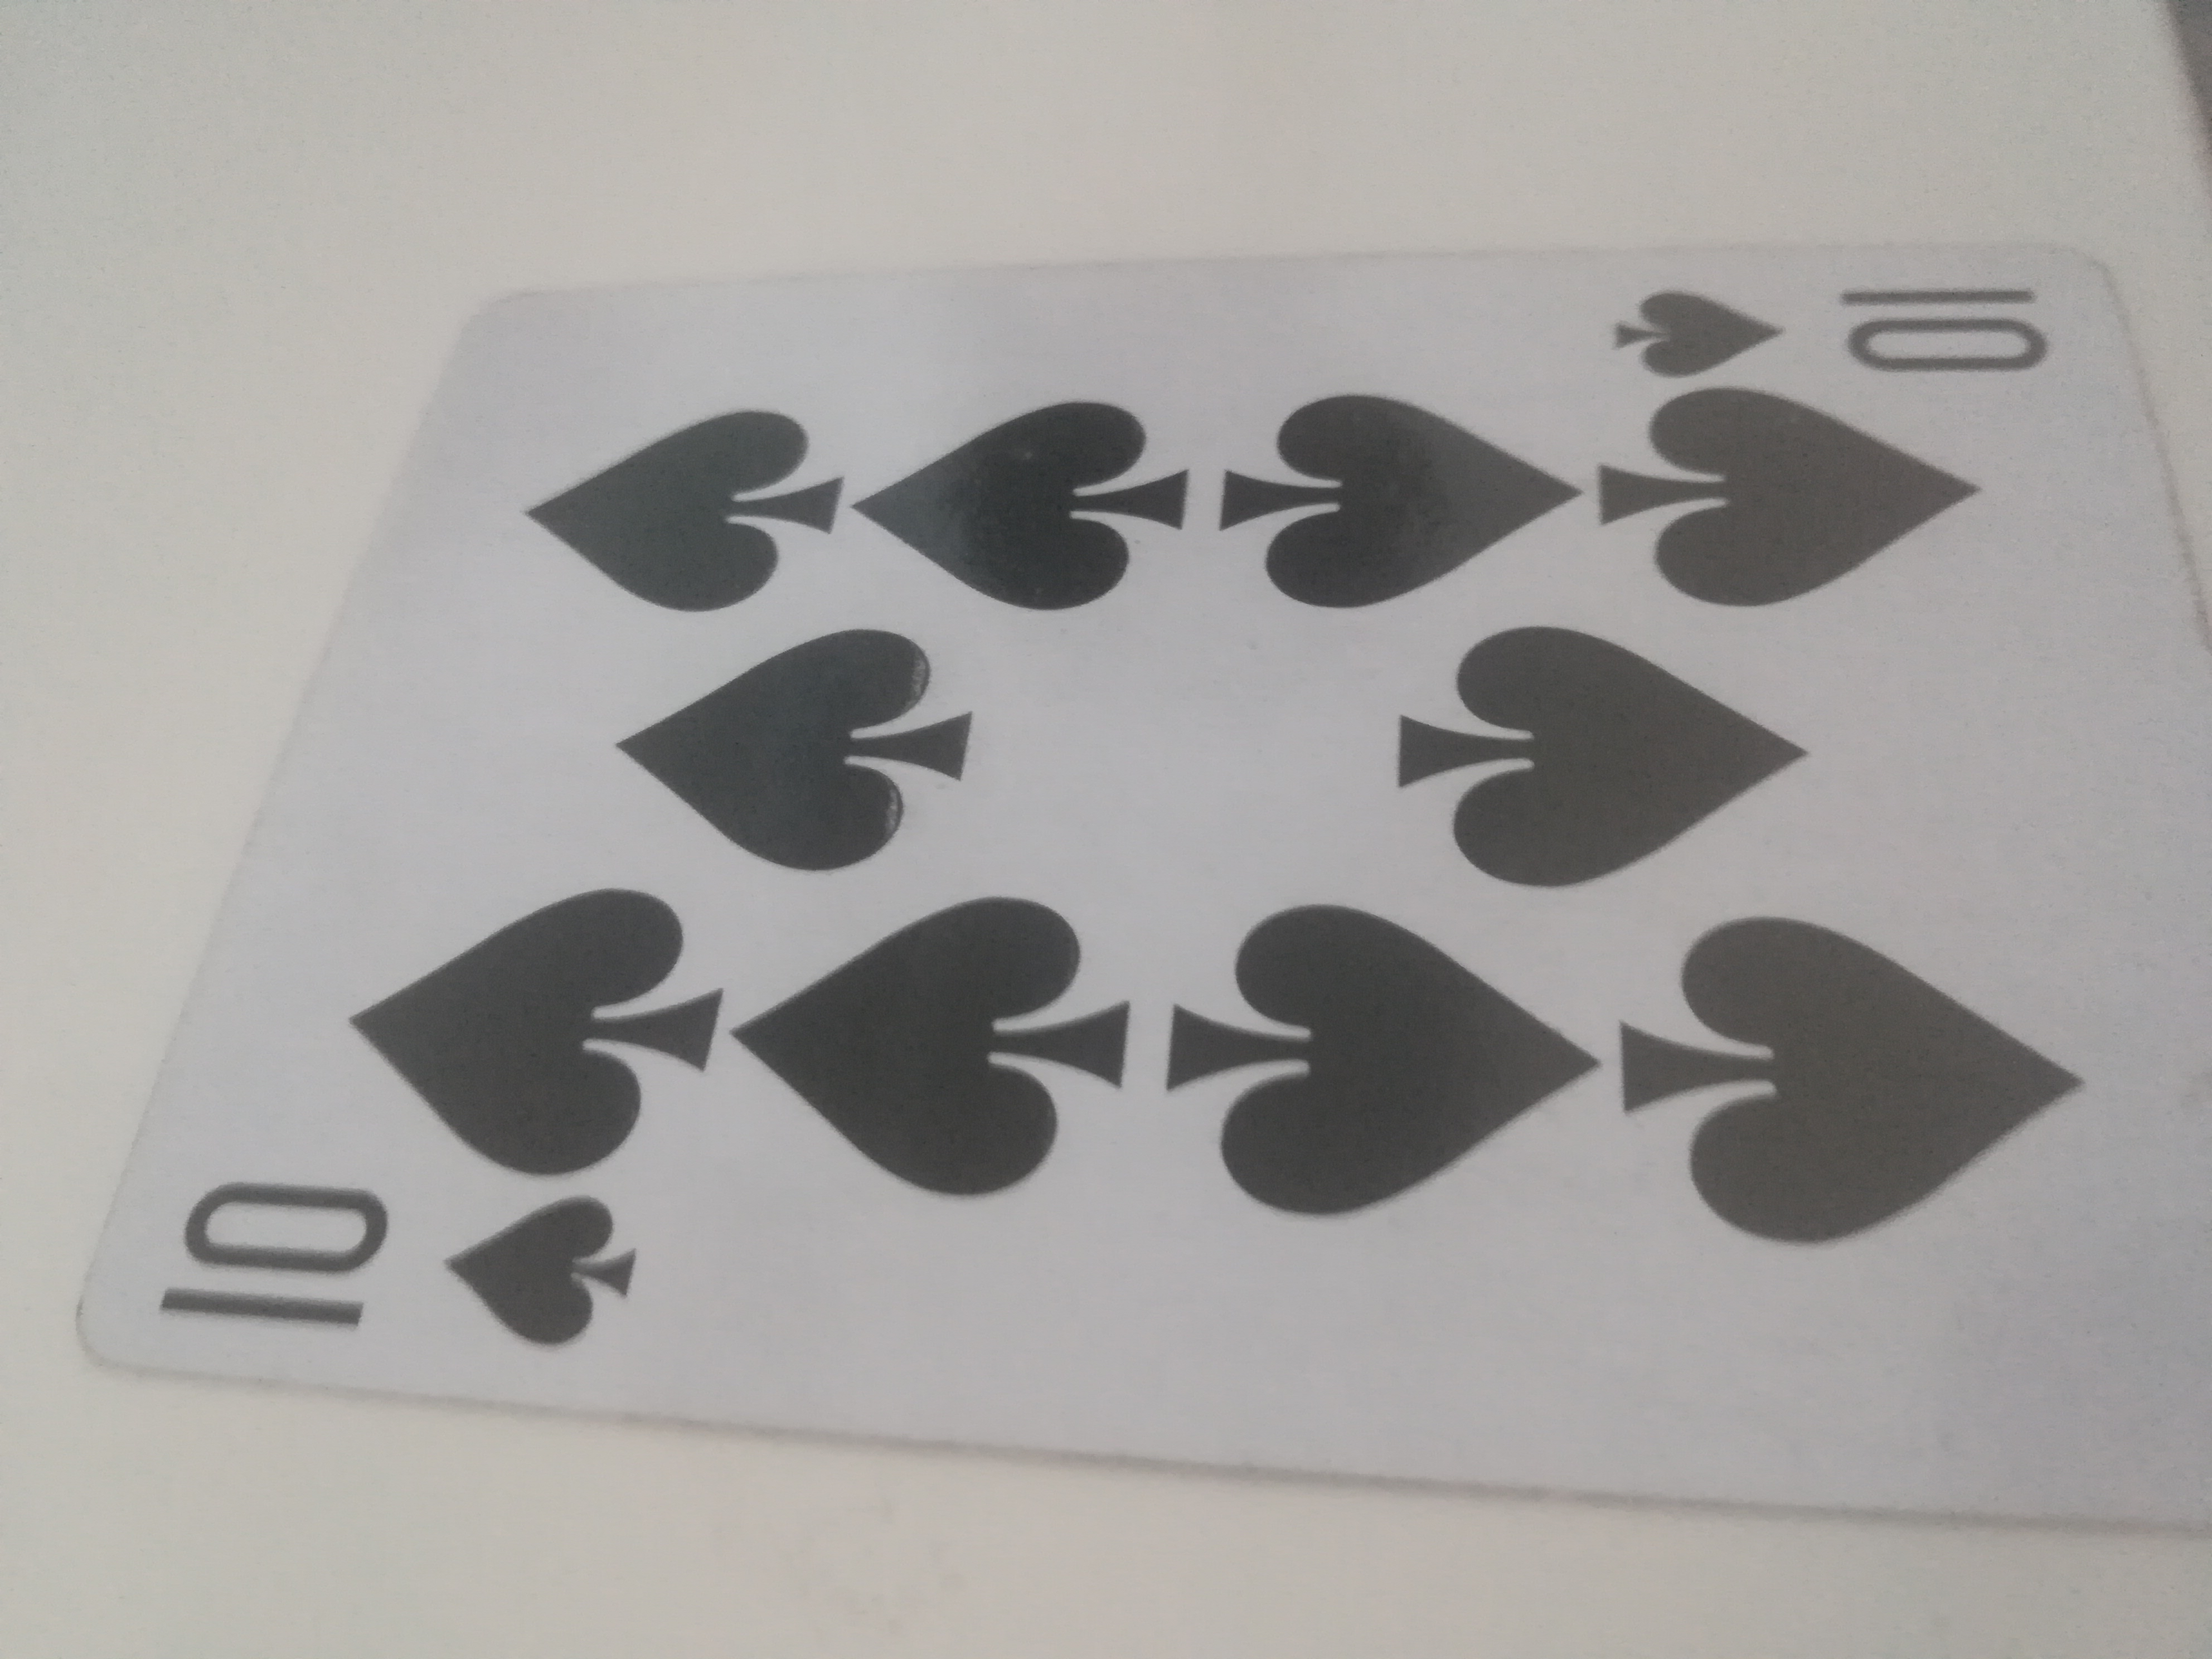10S: (68, 244, 2205, 1535)
